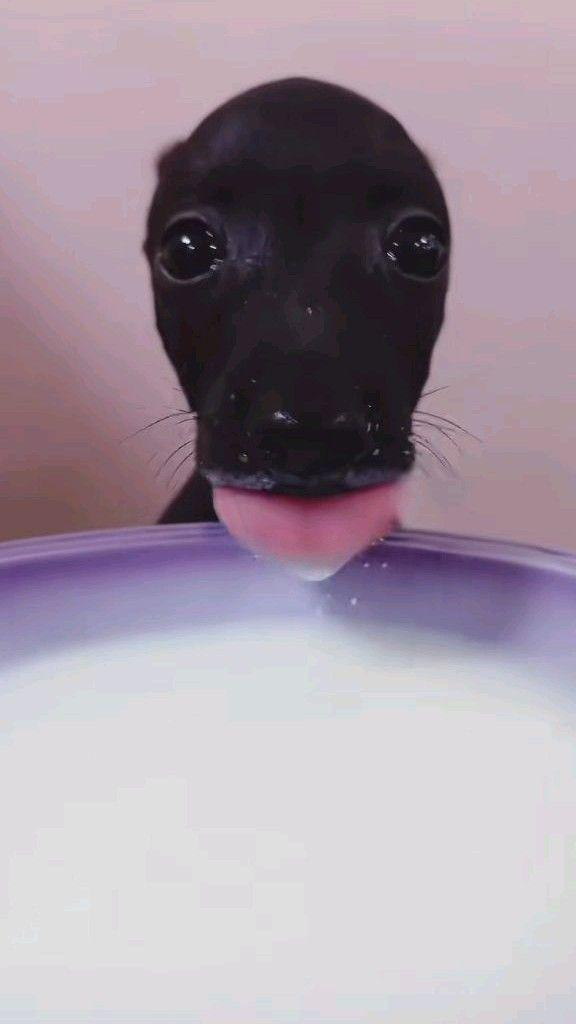puppy-dog: (141, 76, 457, 580)
